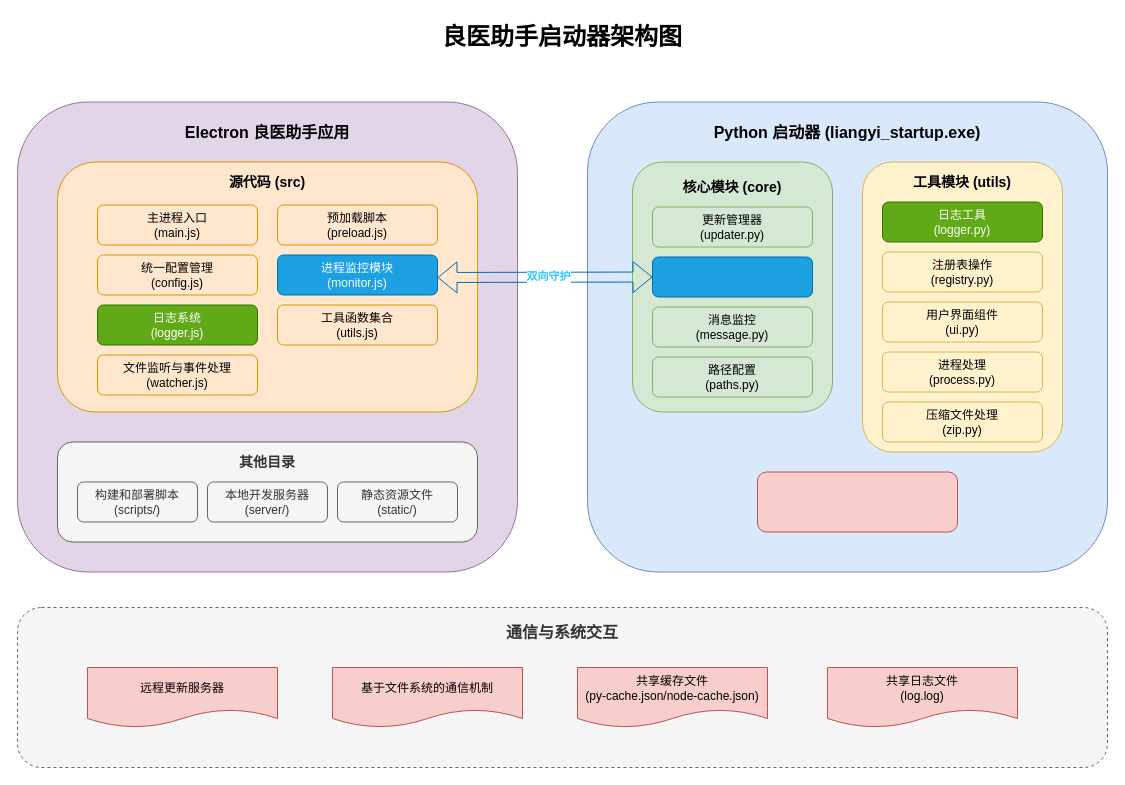
Some shapes in this 1125 by 785 pixel diagram are drawn without their labels. Each missing label, with the centre of its shape:
程序入口 (main.py): point 857,501
进程守护 (guardian.py): point 732,276
